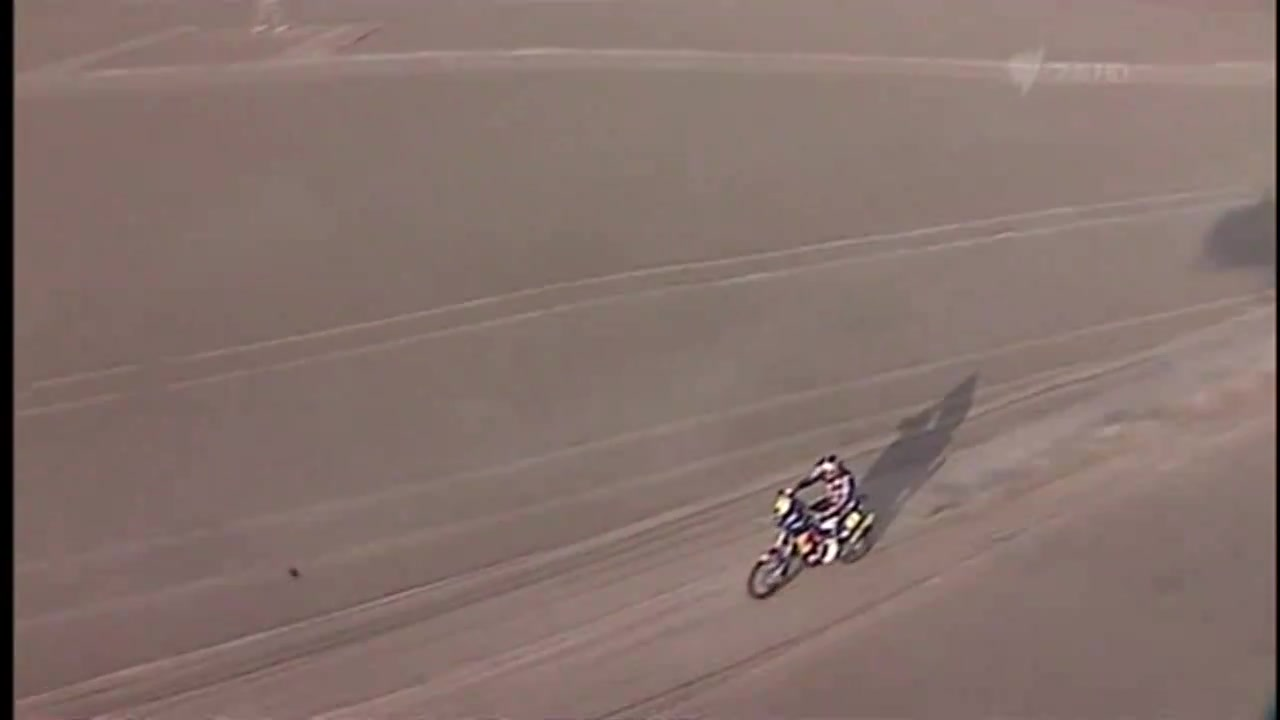motorbike: (744, 498, 876, 601)
